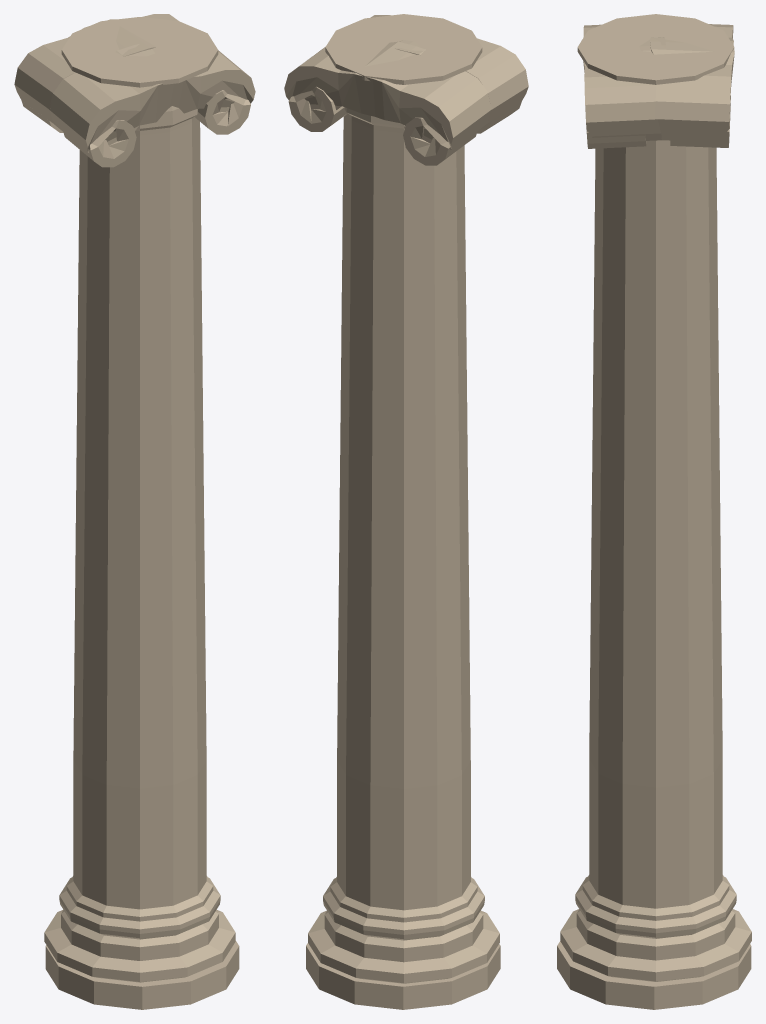
Rendered from column.glb.
3 renders of one model, left to right at view 1: azimuth 30°, elevation 25°; view 2: azimuth 150°, elevation 25°; view 3: azimuth 270°, elevation 25°, orthographic.
Parts seen in each view (by area): view 1: <STL_BINARY>; view 2: <STL_BINARY>; view 3: <STL_BINARY>.
Boxes of the visible parts, x1=… form: <STL_BINARY>: x1=14, y1=14, x2=255, y2=1009; <STL_BINARY>: x1=284, y1=14, x2=528, y2=1009; <STL_BINARY>: x1=557, y1=14, x2=751, y2=1009.
Bounding box in the file's own units: 0.3834 × 1.93 × 0.3692.
